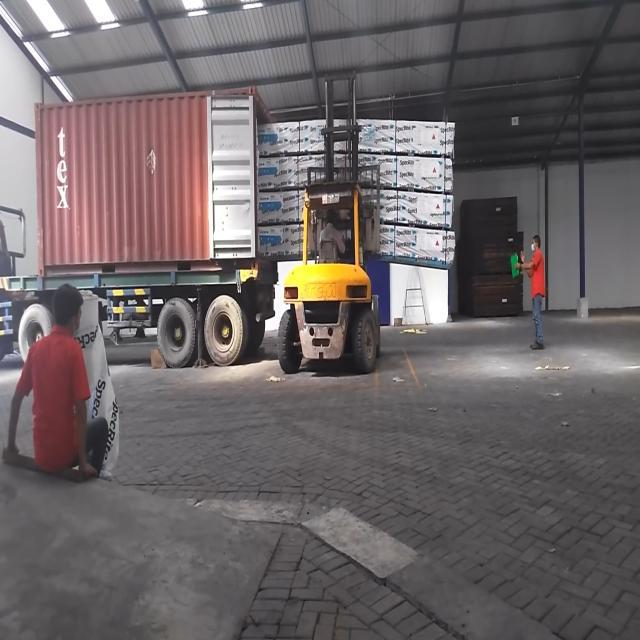driver: (319, 211, 348, 266)
forklift: (276, 160, 387, 382)
person: (6, 286, 109, 483), (521, 232, 547, 356)
